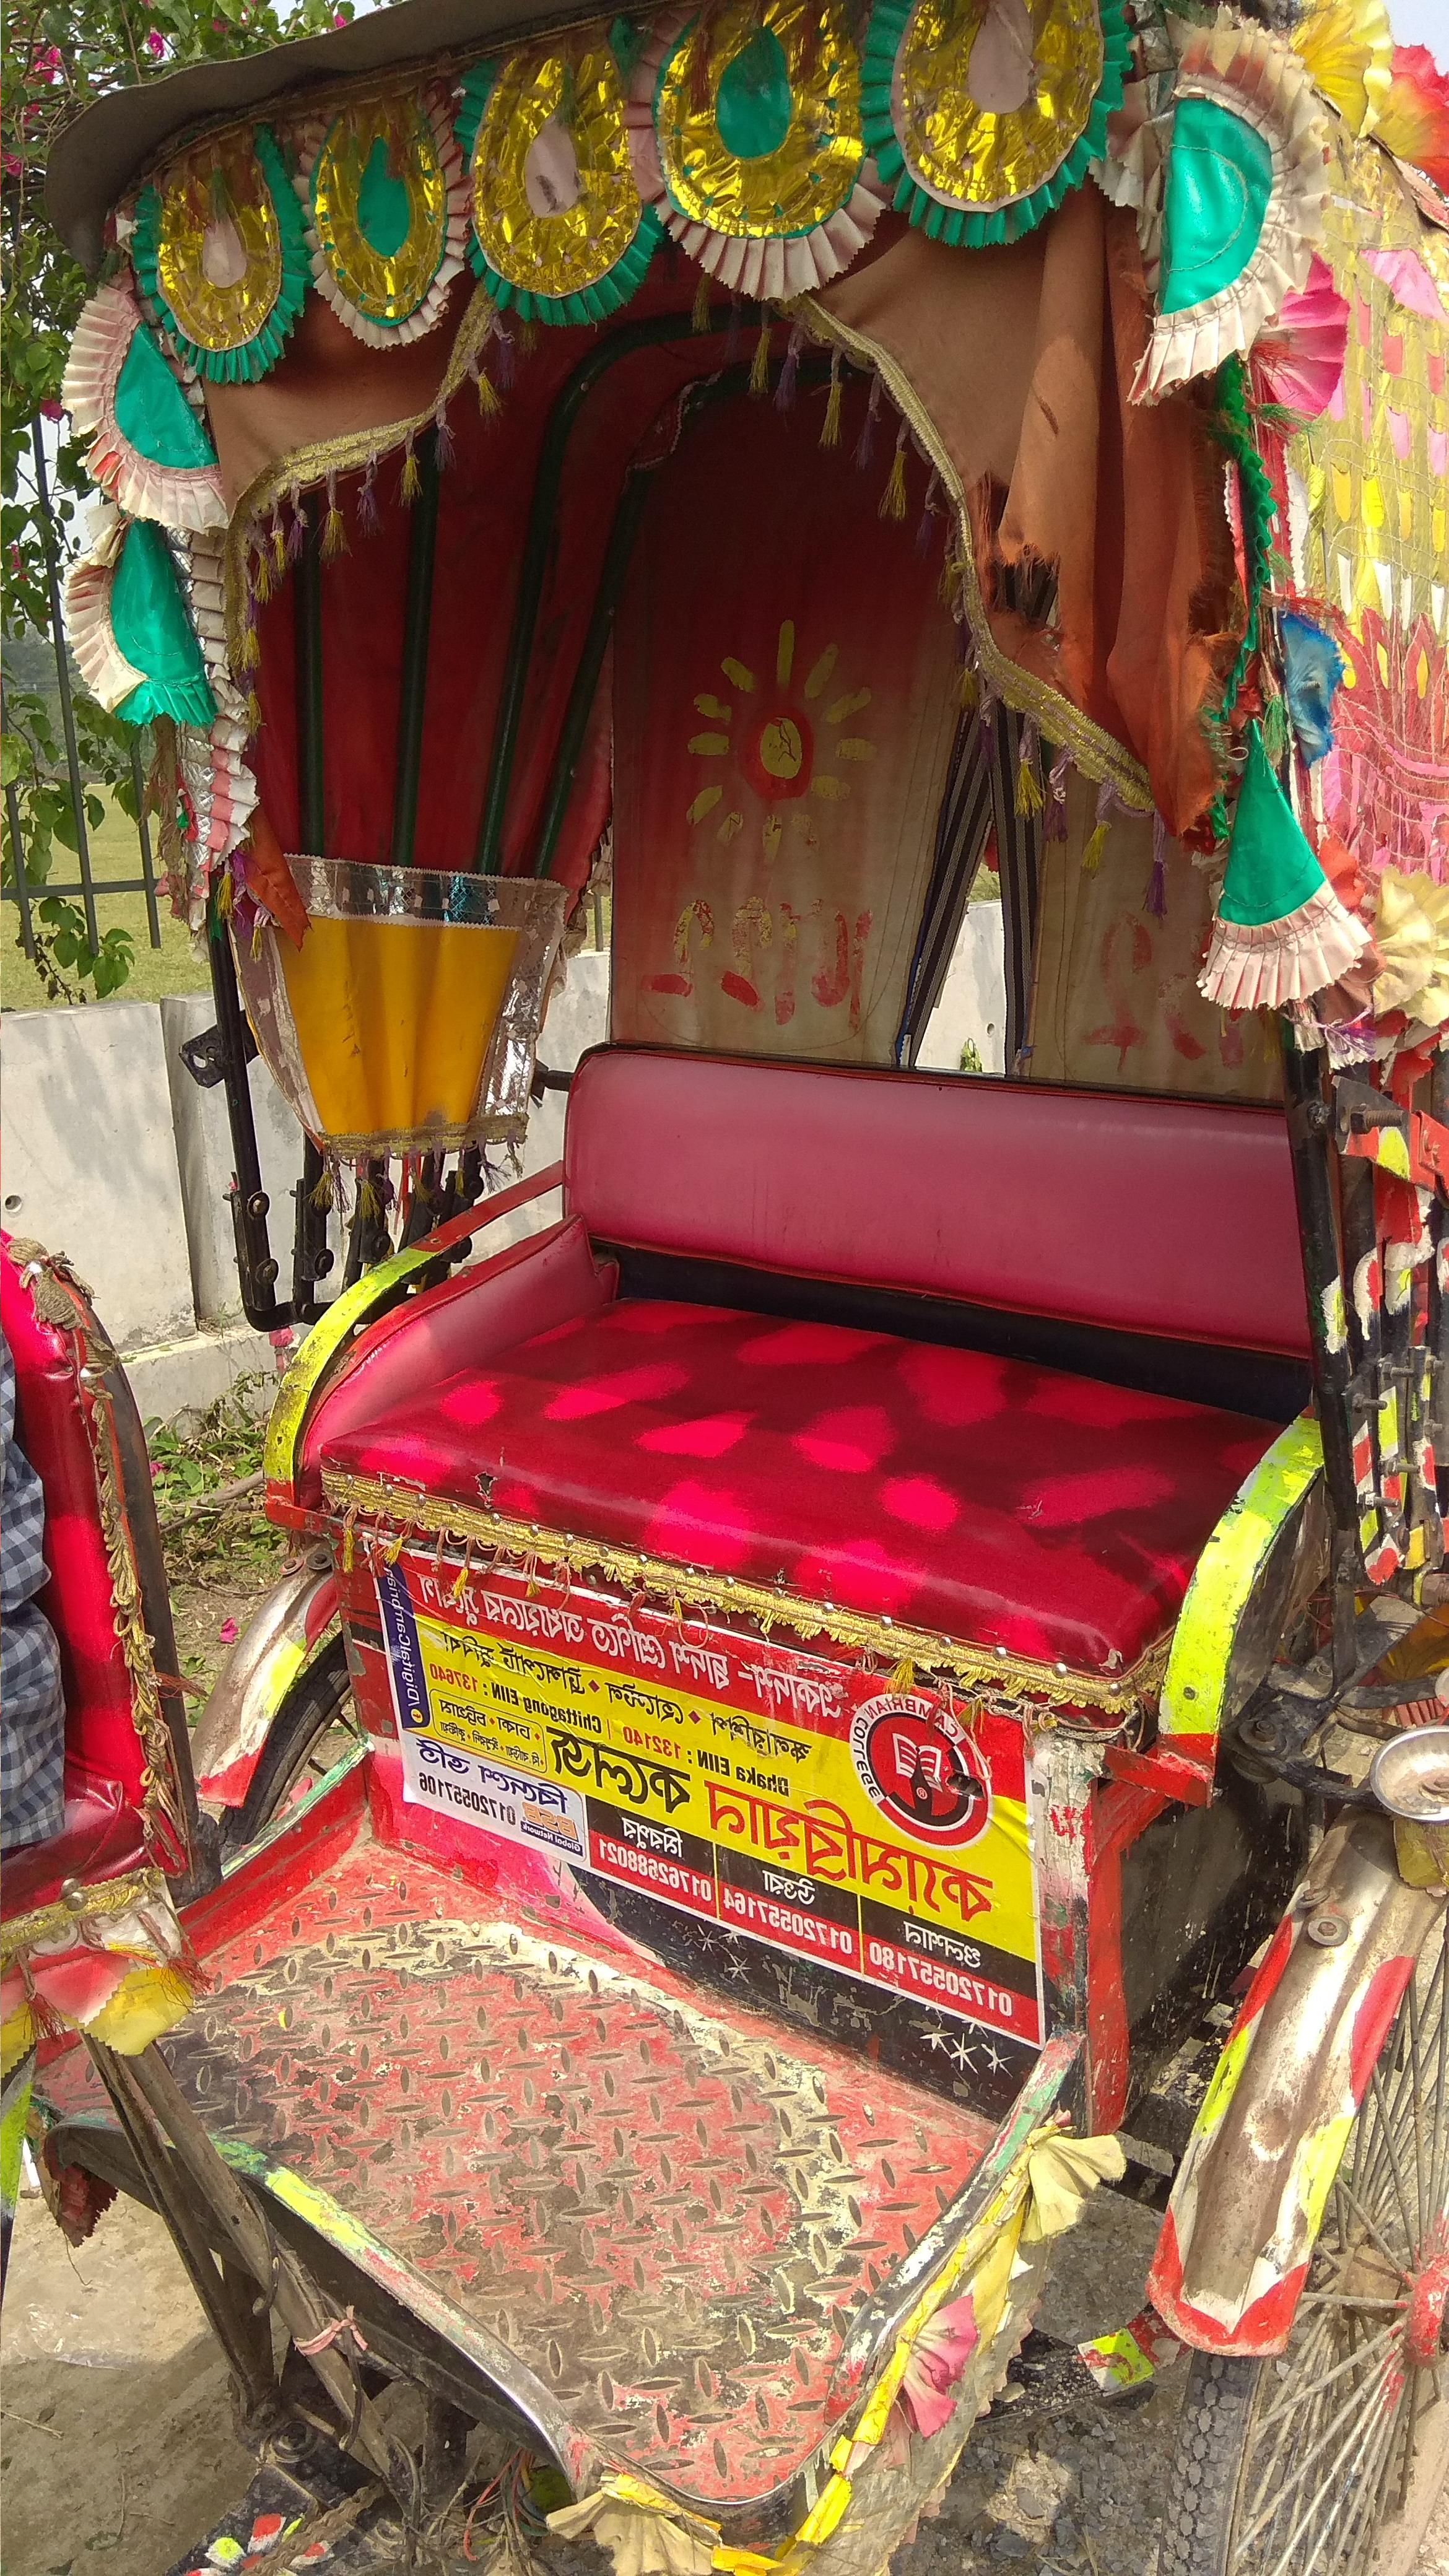Rickshaw: (16, 7, 1359, 2569)
